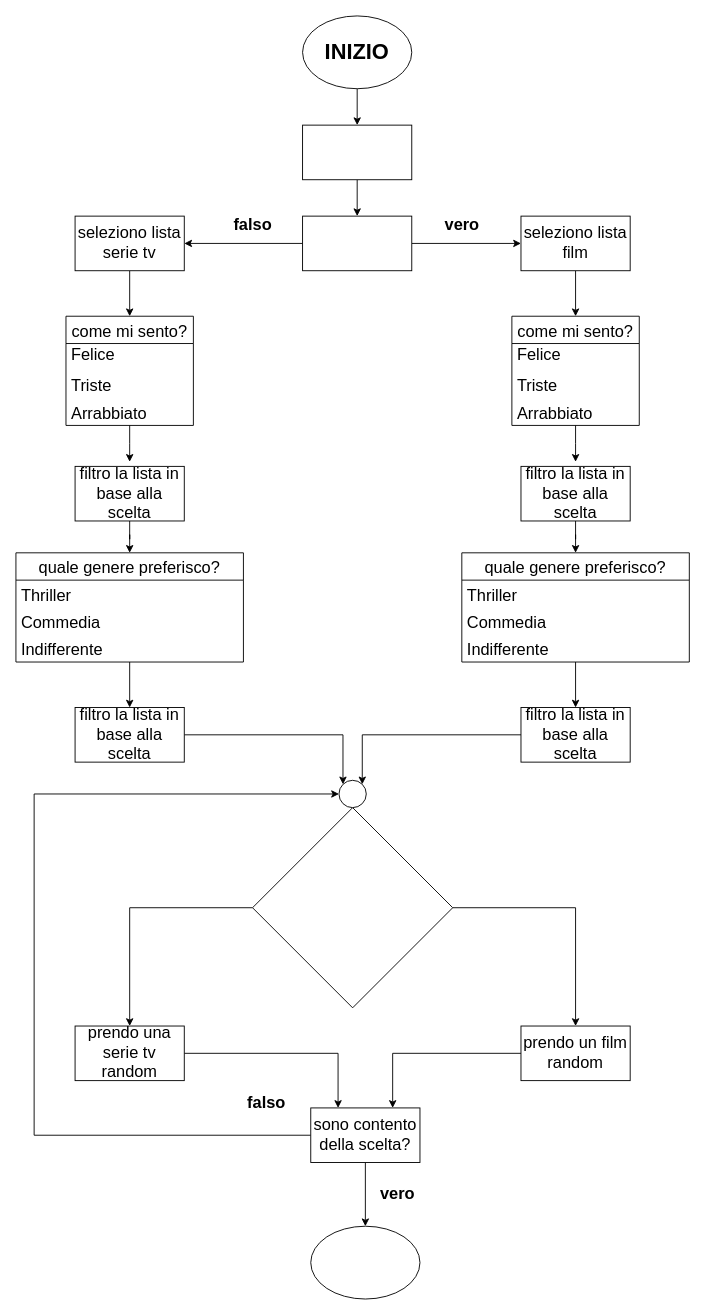
Some shapes in this 705 by 1315 pixel diagram are drawn without their labels. Here are the shapes that lost their labels. From the top down, the centre of each, then its label:
At point (357, 152): "quanto tempo ho?".
At point (357, 243): "se ho >= 1h".
At point (352, 907): "fintanto che non sono contento".
At point (365, 1262): "FINE".
